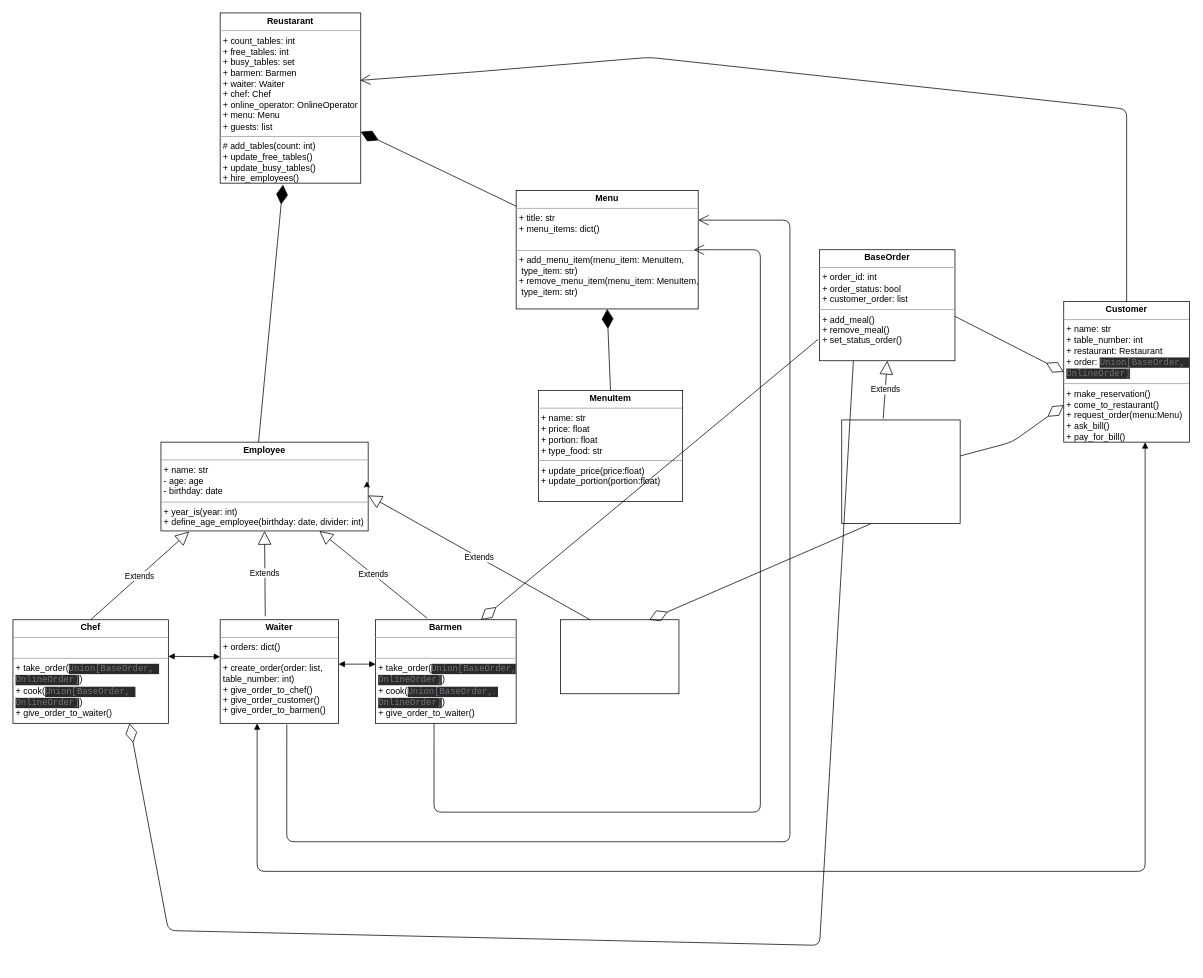
Some shapes in this 1203 by 978 pixel diagram are drawn without their labels. Here are the shapes that lost their labels. From the top down, the box of each, then its label:
(841, 419, 960, 524): OnlineOrder + time_delivery: datetime + addres: str
(560, 619, 679, 694): OnlineOperator + create_order(order:list)
